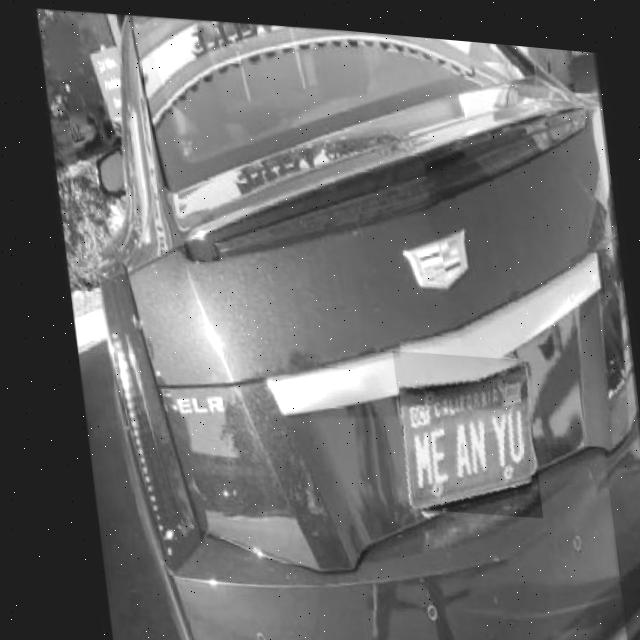LicensePlate: (390, 351, 522, 502)
